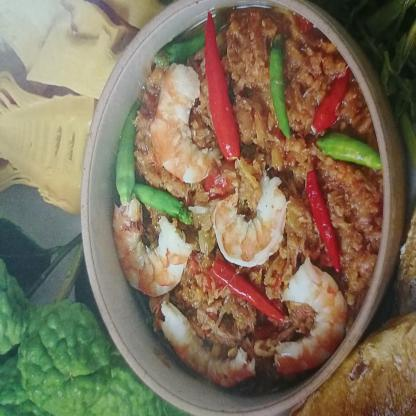Namprig: (96, 17, 384, 400)
